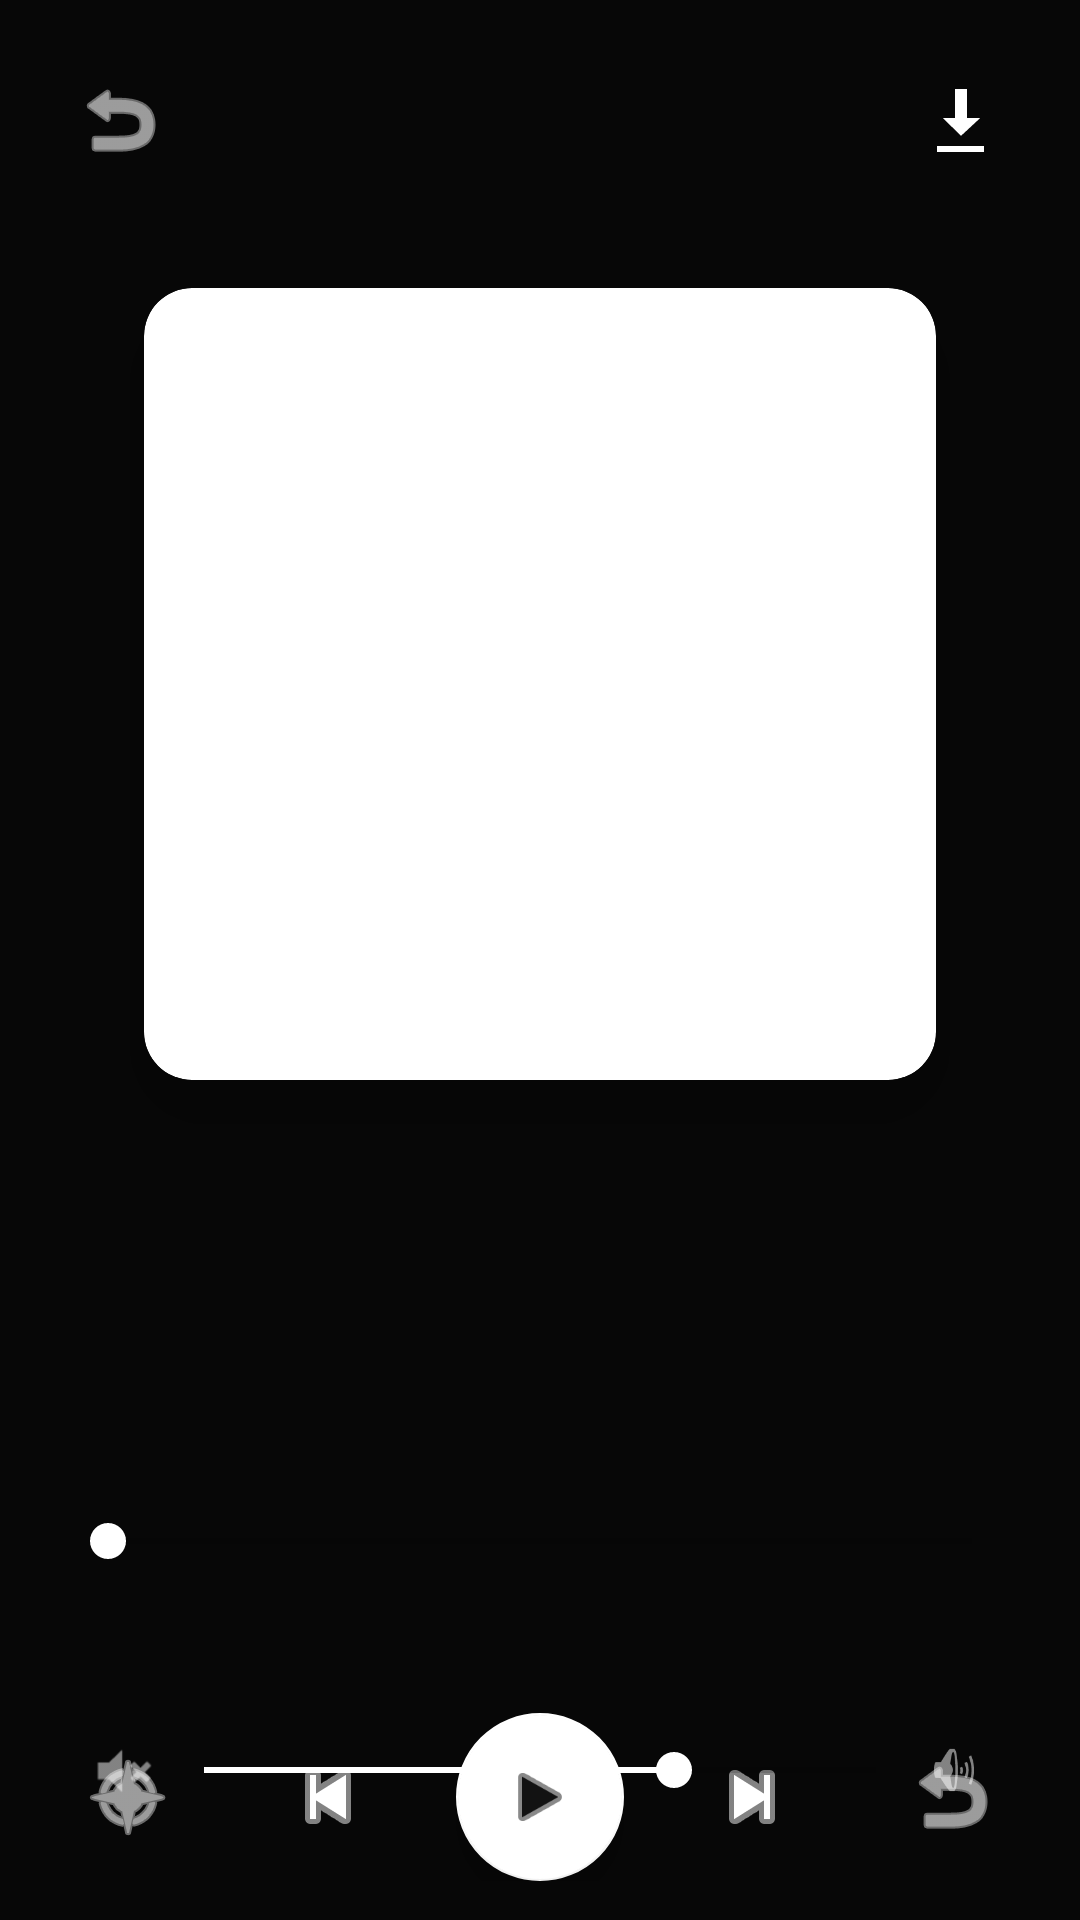

Icons on this 1080 × 1920 Android screen, each with its box as (x1, y1, x2, y2):
download: (937, 89, 984, 152)
next: (729, 1770, 775, 1824)
play: (456, 1713, 624, 1881)
